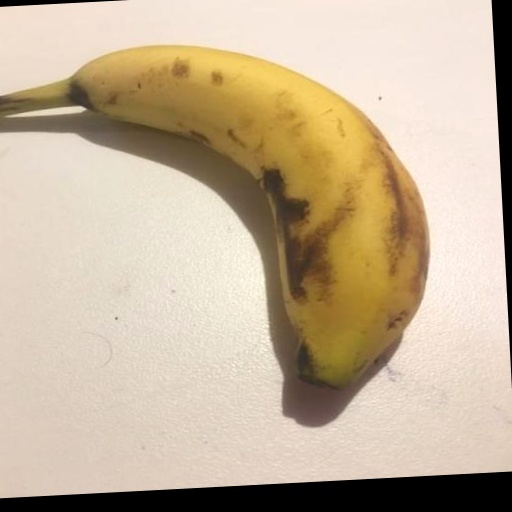fruit: (0, 46, 428, 388)
